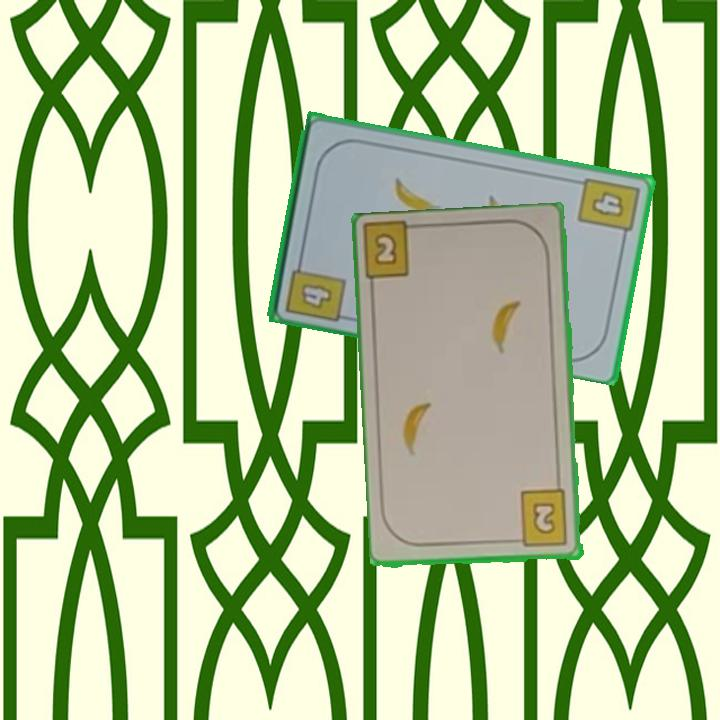2b: (510, 487, 571, 550), (370, 229, 401, 269)
4b: (574, 173, 642, 244), (282, 251, 348, 324)
